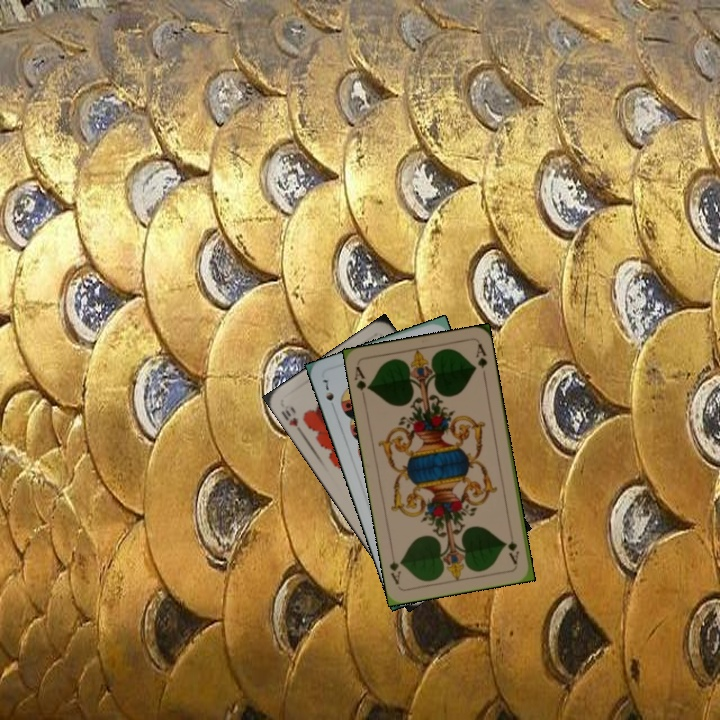GA: (351, 362, 373, 394), (504, 526, 521, 567)
H10: (277, 403, 306, 437)
S7: (318, 375, 338, 414)
